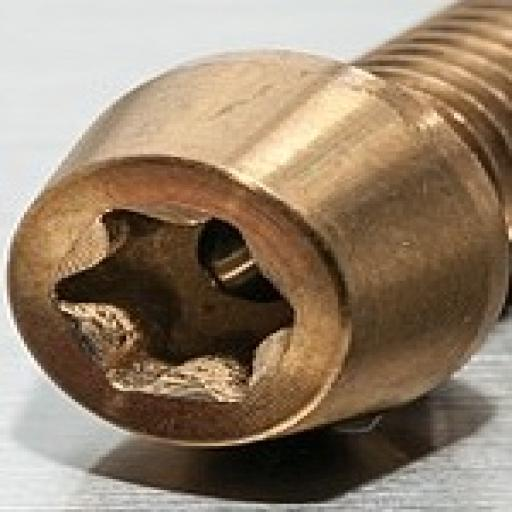Torx: (0, 52, 506, 454)
